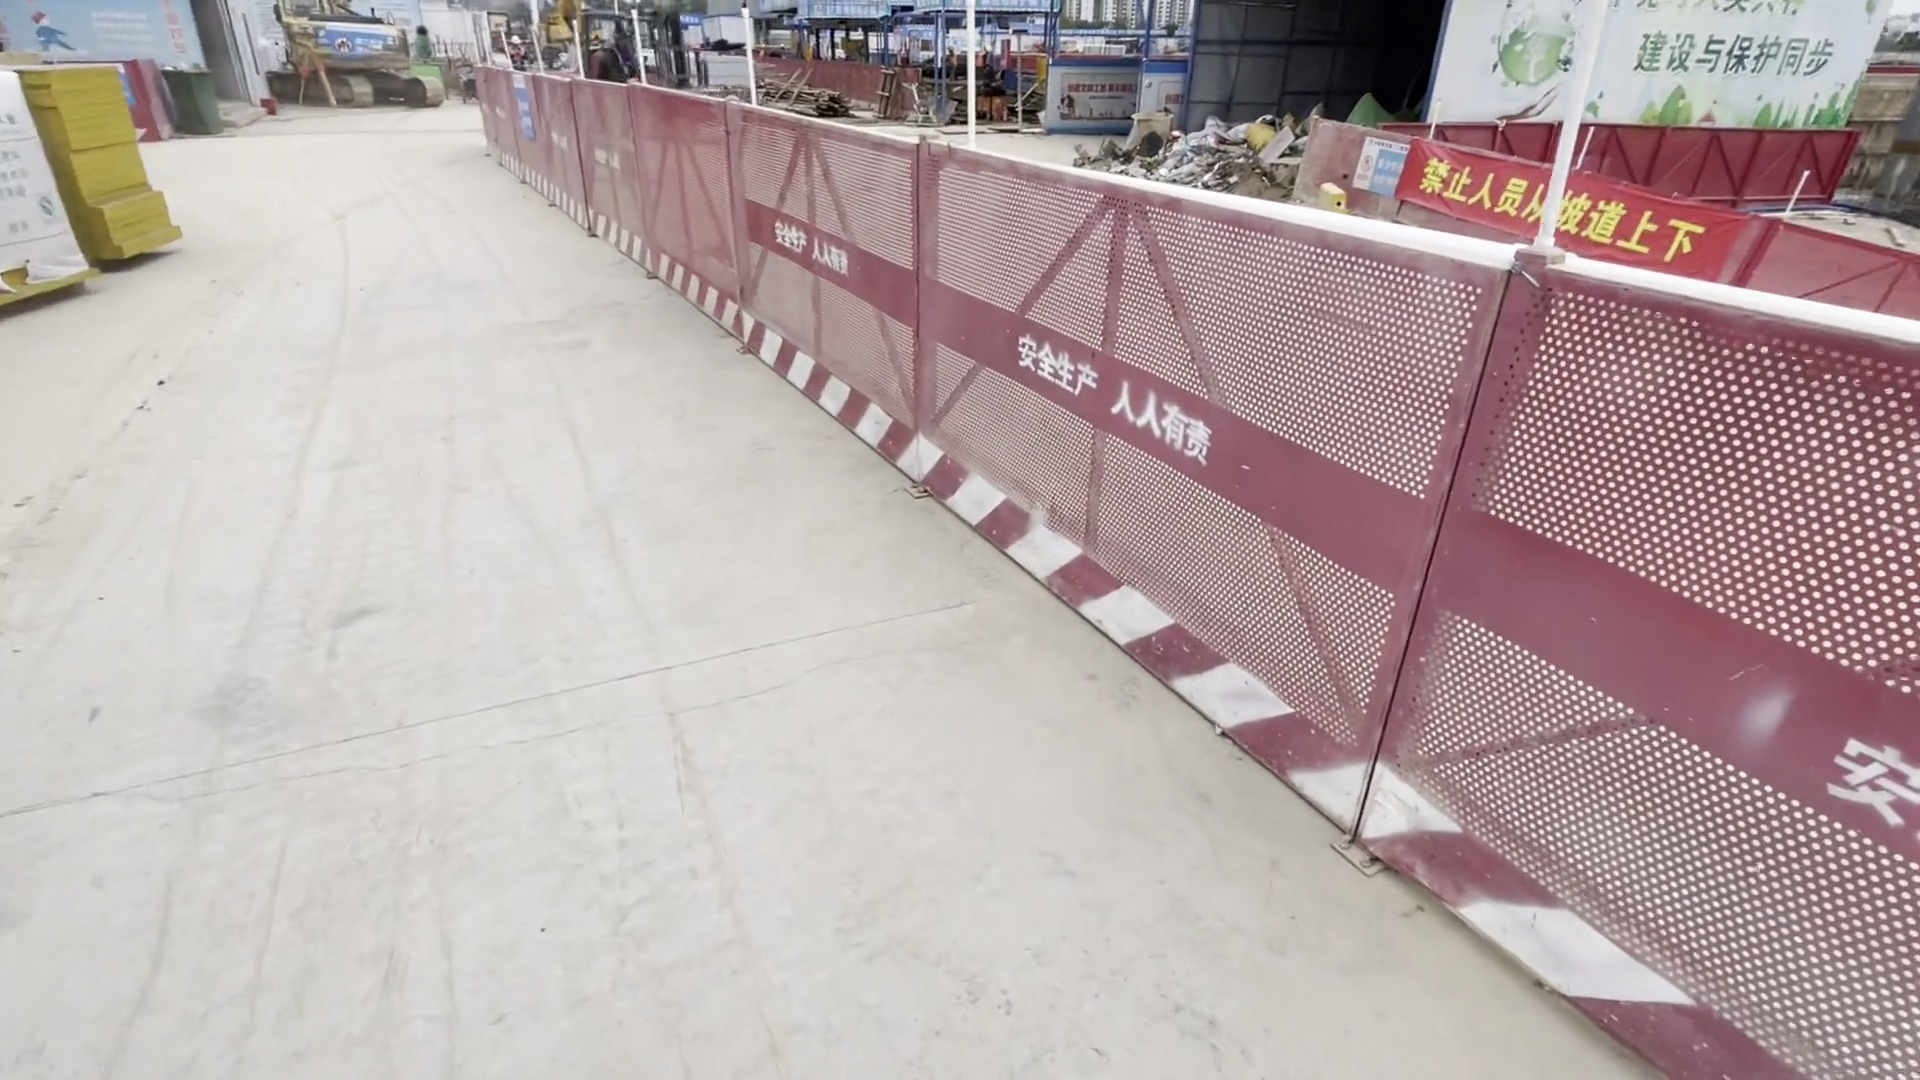fence: (460, 57, 1904, 1068)
